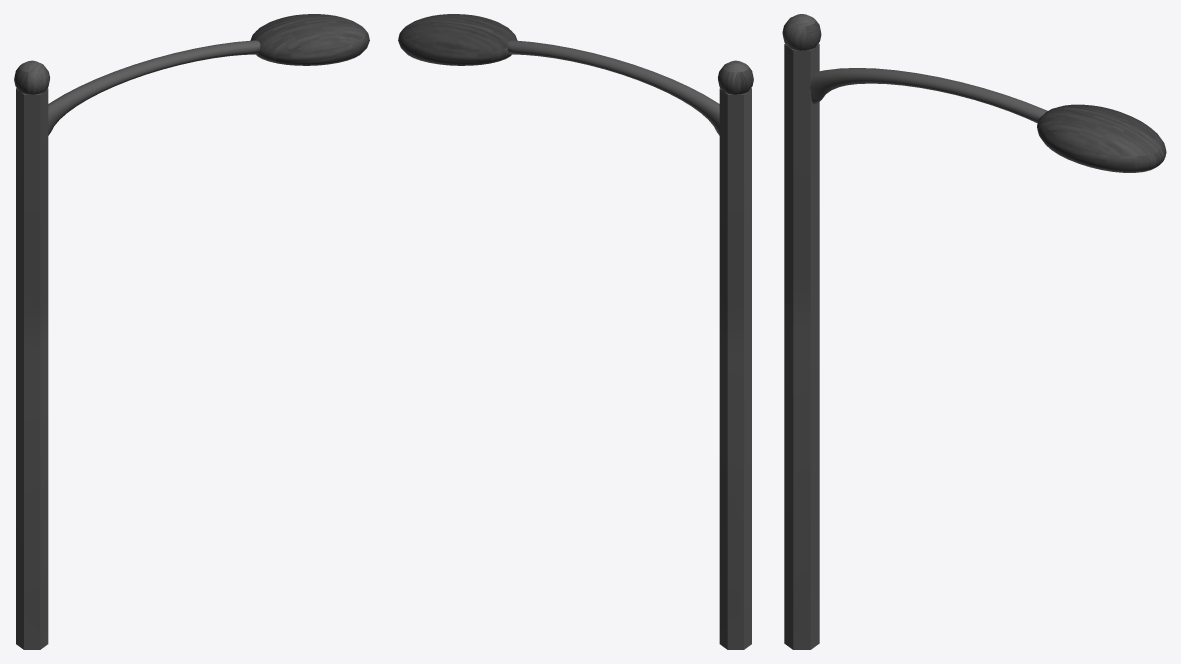
Rendered from Lampara.obj.
3 views of the same model, side by side, from view 1: azimuth 30°, elevation 25°; view 2: azimuth 150°, elevation 25°; view 3: azimuth 330°, elevation 25° (orthographic). The views are drawn at different scales.
Visible parts, largest first — view 1: Pole_Cylinder, LightPart_Sphere, Torus.001, Sphere_Sphere.001; view 2: Pole_Cylinder, LightPart_Sphere, Torus.001, Sphere_Sphere.001; view 3: Pole_Cylinder, LightPart_Sphere, Torus.001, Sphere_Sphere.001.
Boxes of the visible parts, bbox=[...] form: Pole_Cylinder: bbox=[16, 88, 48, 649]; LightPart_Sphere: bbox=[250, 14, 369, 65]; Torus.001: bbox=[48, 40, 260, 135]; Sphere_Sphere.001: bbox=[14, 60, 49, 94]; Pole_Cylinder: bbox=[719, 88, 751, 649]; LightPart_Sphere: bbox=[398, 14, 517, 65]; Torus.001: bbox=[507, 40, 719, 135]; Sphere_Sphere.001: bbox=[718, 60, 753, 94]; Pole_Cylinder: bbox=[784, 43, 819, 649]; LightPart_Sphere: bbox=[1037, 104, 1166, 172]; Torus.001: bbox=[810, 68, 1047, 123]; Sphere_Sphere.001: bbox=[782, 14, 821, 50].
Size of the model in its own units: 9.13 by 14.53 by 2.
